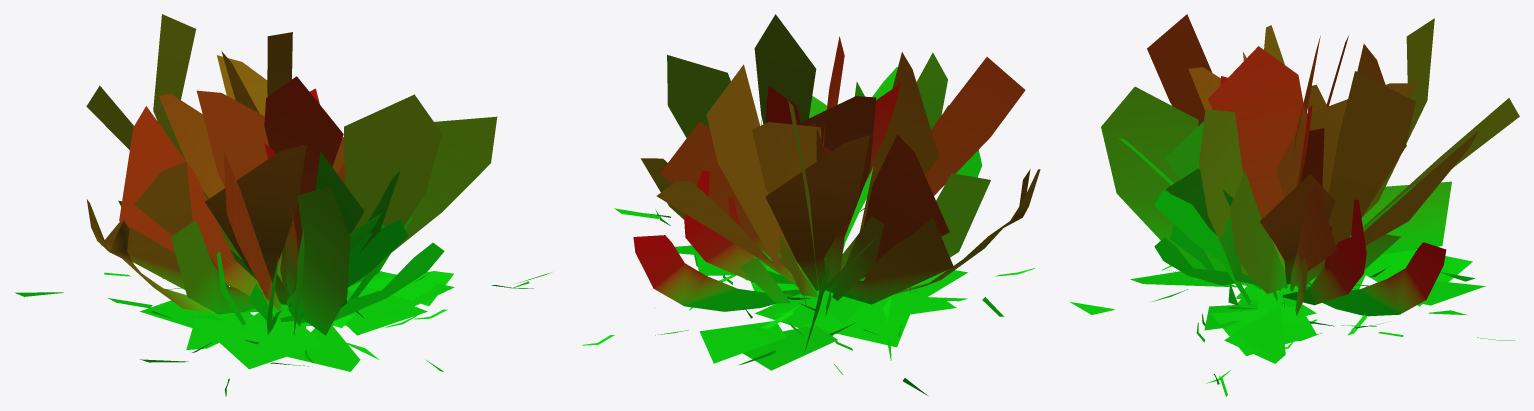
File: Var13_LOD3.fbx
The picture shows the model from 3 angles, left to right: view 1: azimuth 30°, elevation 25°; view 2: azimuth 150°, elevation 25°; view 3: azimuth 270°, elevation 25°; orthographic projection. The views are drawn at different scales.
Visible parts, largest first — view 1: _mwqn_Var13_LOD3; view 2: _mwqn_Var13_LOD3; view 3: _mwqn_Var13_LOD3.
Boxes of the visible parts, left/top/right/bottom form: _mwqn_Var13_LOD3: left=14, top=14, right=551, bottom=396; _mwqn_Var13_LOD3: left=582, top=14, right=1040, bottom=395; _mwqn_Var13_LOD3: left=1070, top=14, right=1519, bottom=396.
Size of the model in its own units: 83.67 by 46.54 by 75.32.
